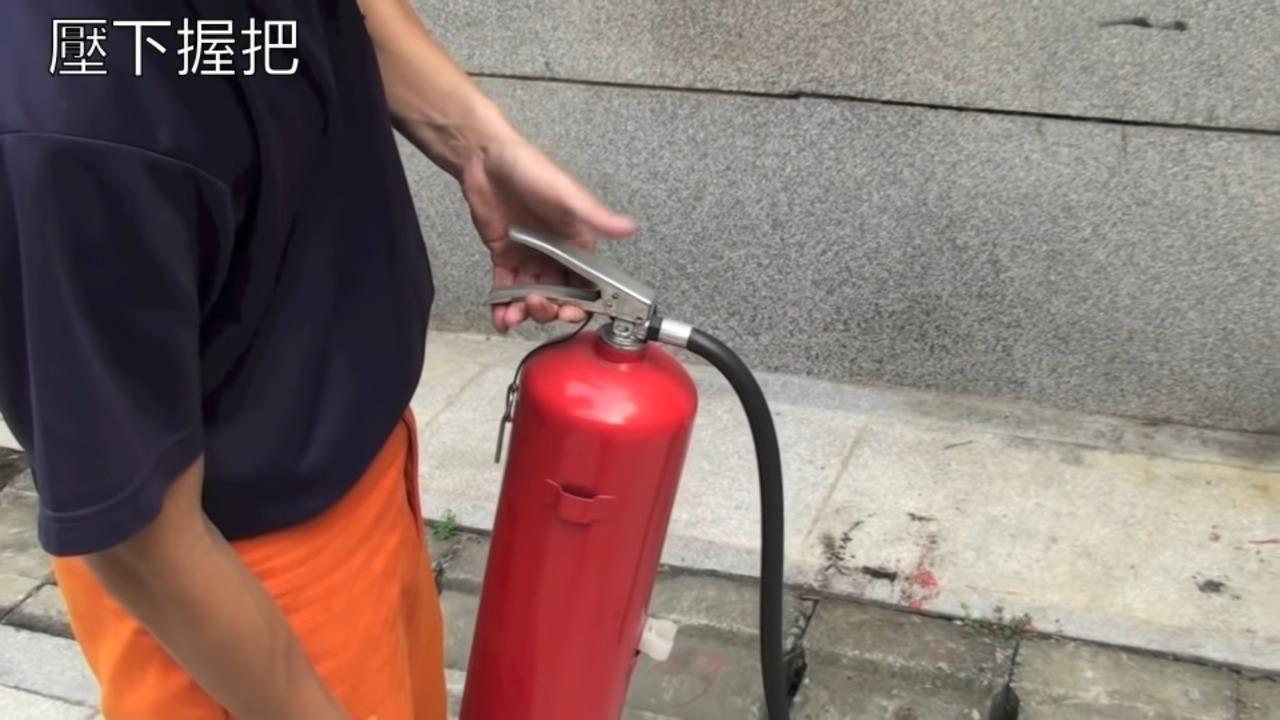FireExtinguisher: (455, 290, 749, 720)
